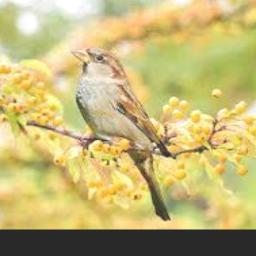Sparrow: (72, 47, 171, 221)
